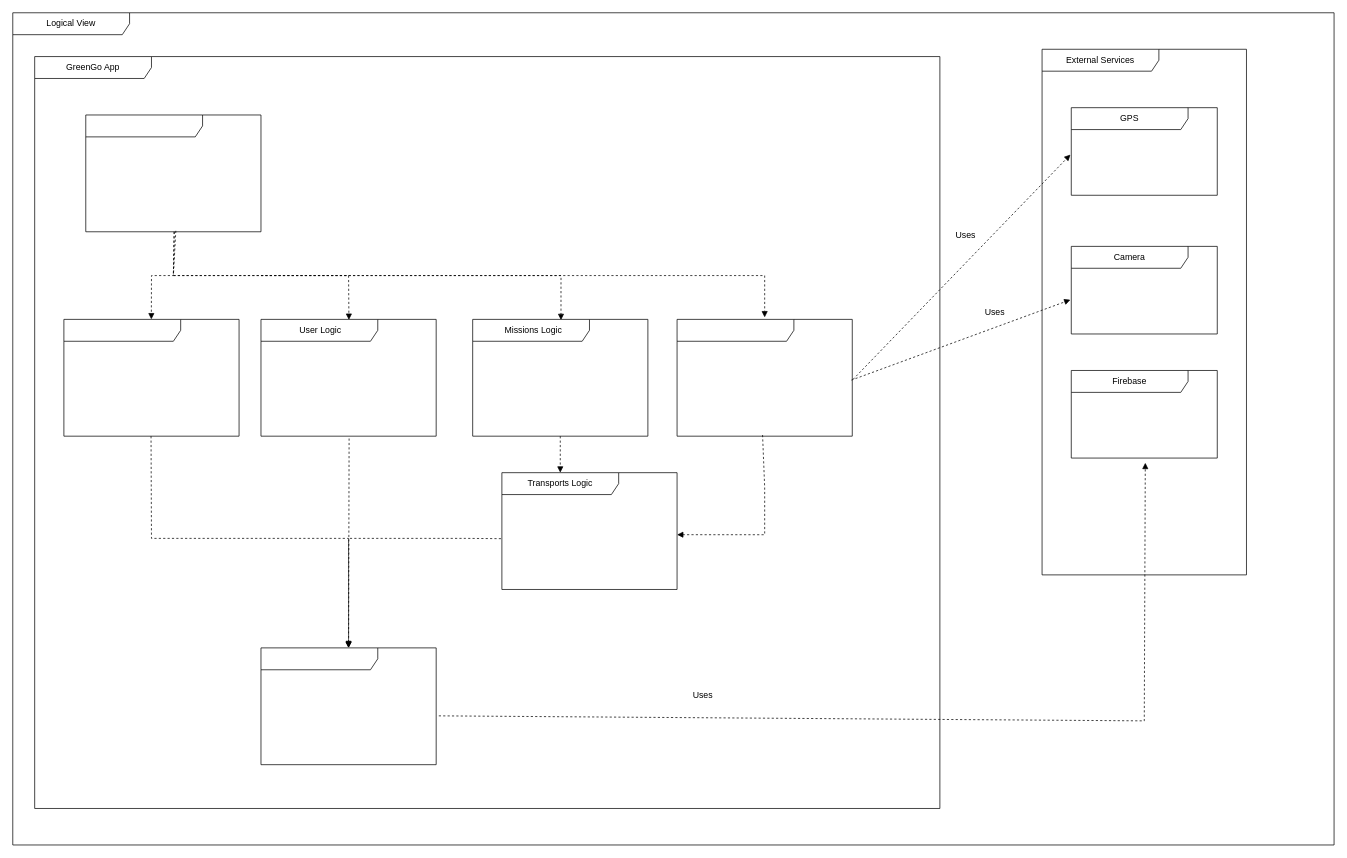
Image size: 1347x858. Some labels were removed from this diagram. Here are the shapes that lost their labels. From the top down, the centre of each, then its label:
At point (173, 173): "App UI".
At point (151, 377): "Achievement Logic".
At point (764, 377): "Trips Logic".
At point (348, 706): "GreenGo Database".
